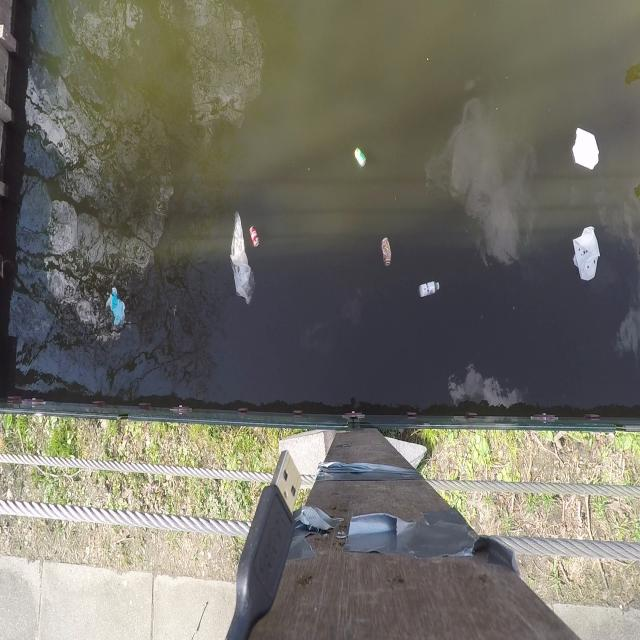Autre plastique: (566, 125, 606, 175)
Bouteille plastique: (416, 278, 443, 303)
Non plastique: (243, 212, 263, 258), (380, 236, 396, 272), (352, 147, 373, 172)
Sac plastique: (222, 204, 261, 313), (101, 282, 132, 332)
